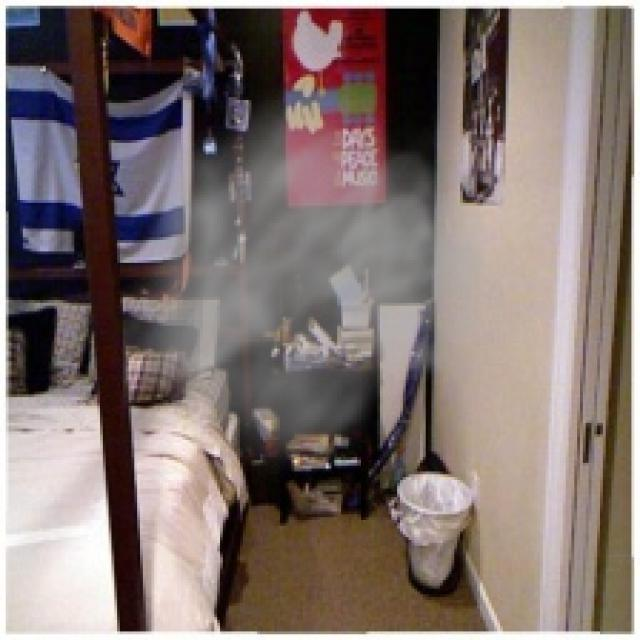smoke: (123, 68, 534, 483)
